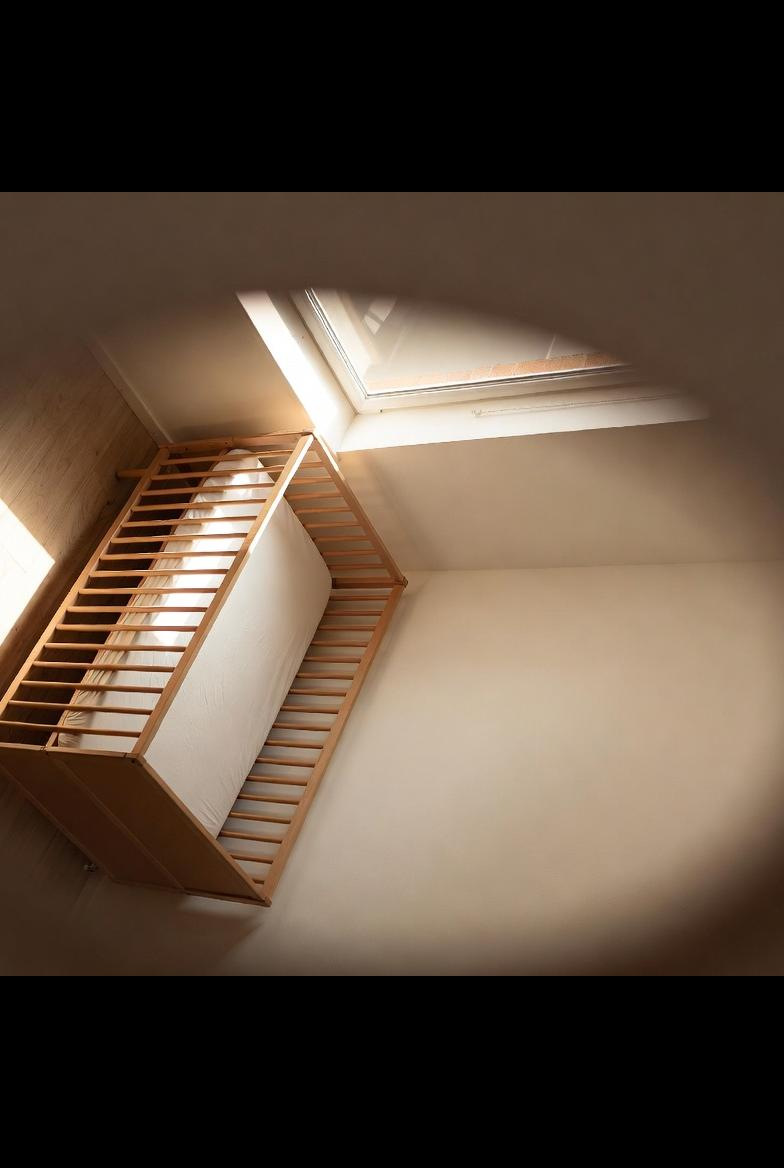crib: (0, 420, 439, 903)
